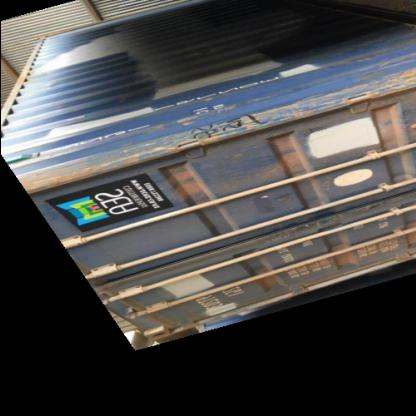Damage: (182, 111, 258, 145), (24, 160, 98, 193), (322, 228, 374, 272), (358, 64, 412, 100), (260, 136, 302, 180), (372, 103, 404, 151), (160, 168, 201, 204), (245, 262, 278, 294), (38, 67, 52, 103)
